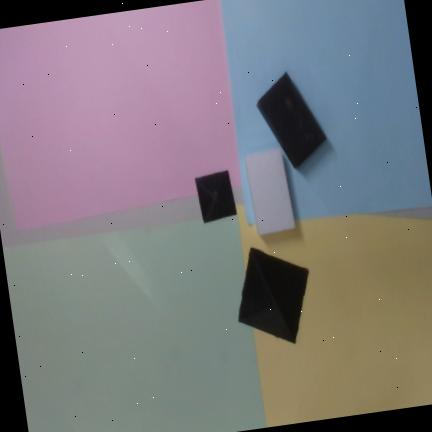Paralelepipedo: (256, 71, 326, 168), (243, 147, 295, 234)
Piramide: (237, 246, 309, 344), (194, 169, 237, 223)
